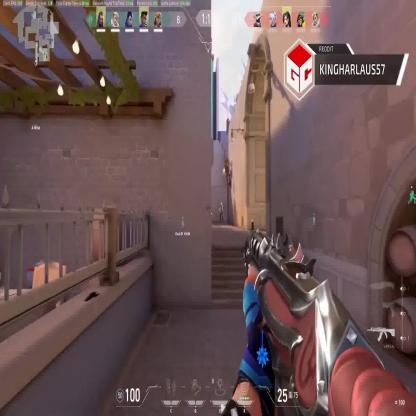enemy: (218, 201, 224, 222)
enemy_head: (220, 202, 222, 206)
